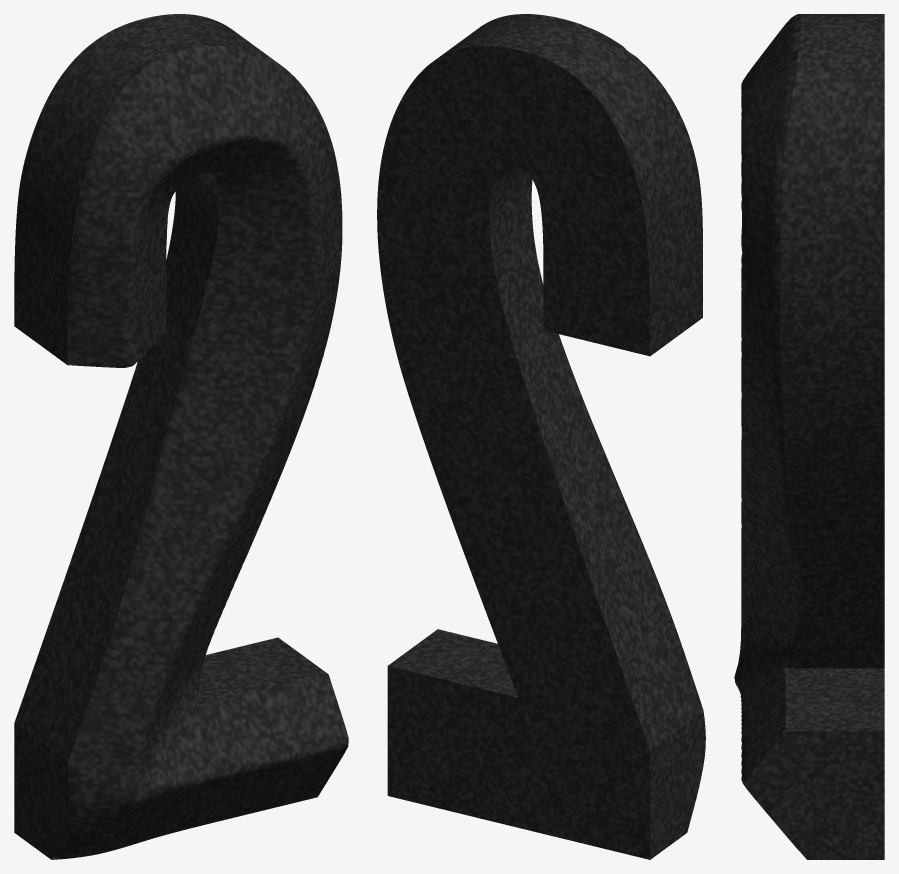
Rendered from digit-2.glb.
3 views of the same model, side by side, from view 1: azimuth 30°, elevation 25°; view 2: azimuth 150°, elevation 25°; view 3: azimuth 270°, elevation 25° (orthographic).
Parts seen in each view (by area): view 1: Glyph 2; view 2: Glyph 2; view 3: Glyph 2.
Boxes of the visible parts, <box> form: Glyph 2: <box>14,14,348,859</box>; Glyph 2: <box>377,14,705,859</box>; Glyph 2: <box>734,14,884,859</box>.
Bounding box in the file's own units: 1.36 × 3.71 × 0.6588.
1 material, 1 textured.
